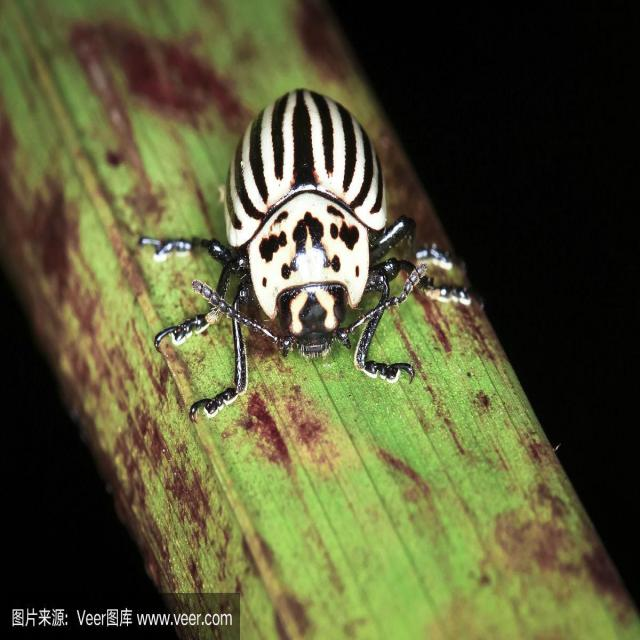ShuCaiHuaBanChong-Grown-: (192, 74, 416, 404)
